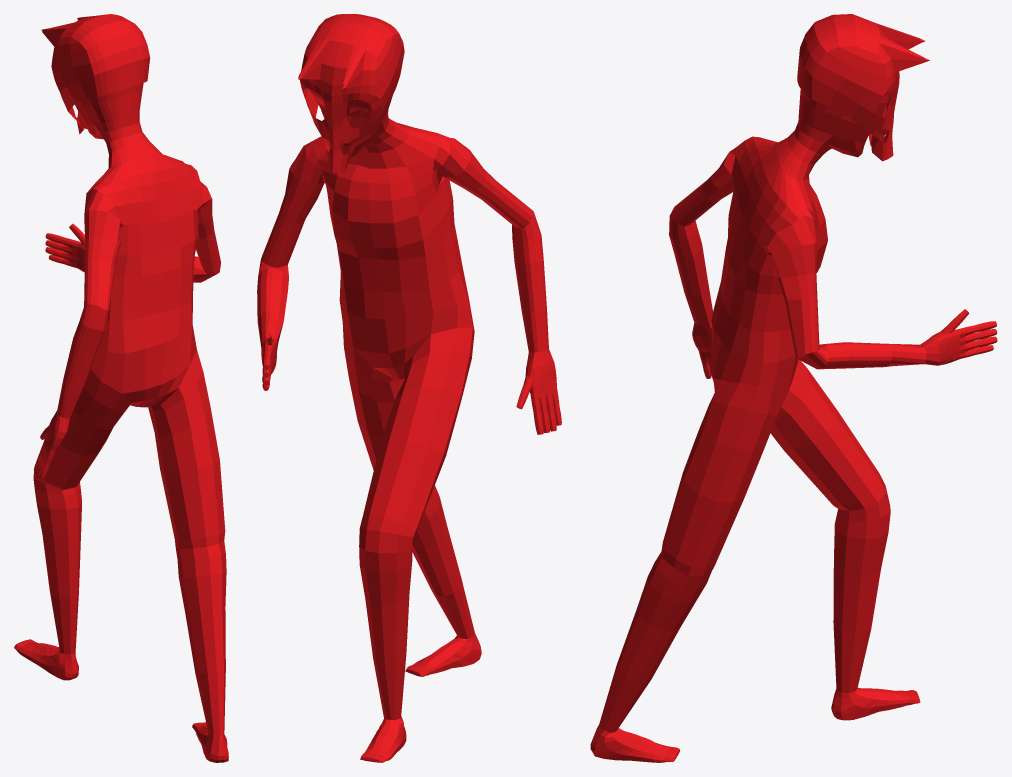
File: marchaE_000036.obj
The picture shows the model from 3 angles, left to right: view 1: azimuth 30°, elevation 25°; view 2: azimuth 150°, elevation 25°; view 3: azimuth 270°, elevation 25°; orthographic projection. The views are drawn at different scales.
Parts seen in each view (by area): view 1: Plane.002_Plane.001; view 2: Plane.002_Plane.001; view 3: Plane.002_Plane.001.
Part boxes in pixels (x1=…): Plane.002_Plane.001: x1=14, y1=14, x2=228, y2=762; Plane.002_Plane.001: x1=257, y1=14, x2=561, y2=762; Plane.002_Plane.001: x1=590, y1=14, x2=997, y2=762.
Bounding box in the file's own units: 2.41 × 6.76 × 3.41.
